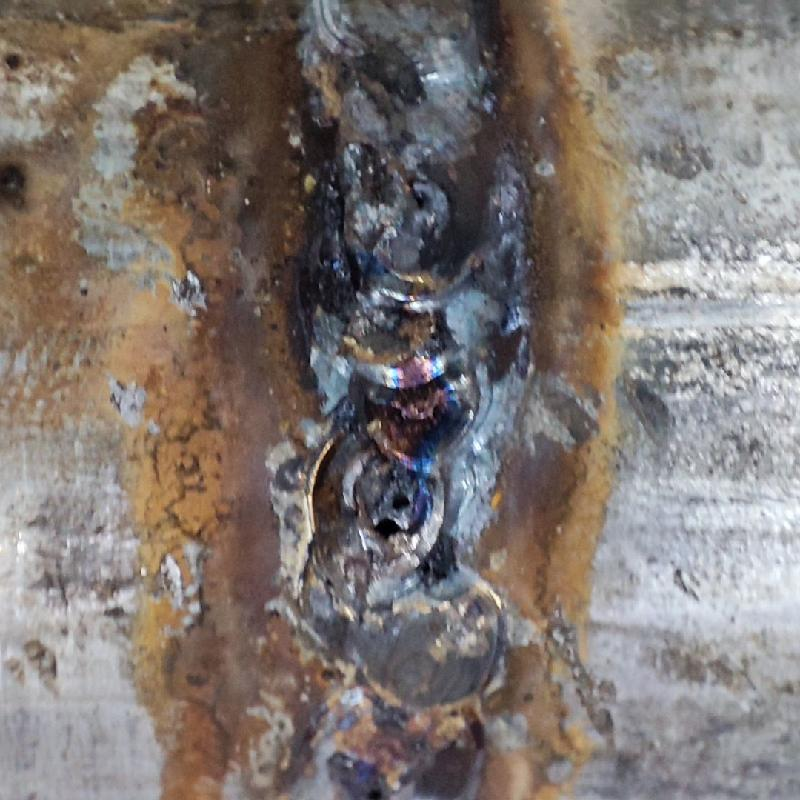Not_fully_soldered: (304, 560, 492, 797)
Surface_pores: (358, 465, 433, 546)
crater: (288, 244, 493, 558)
